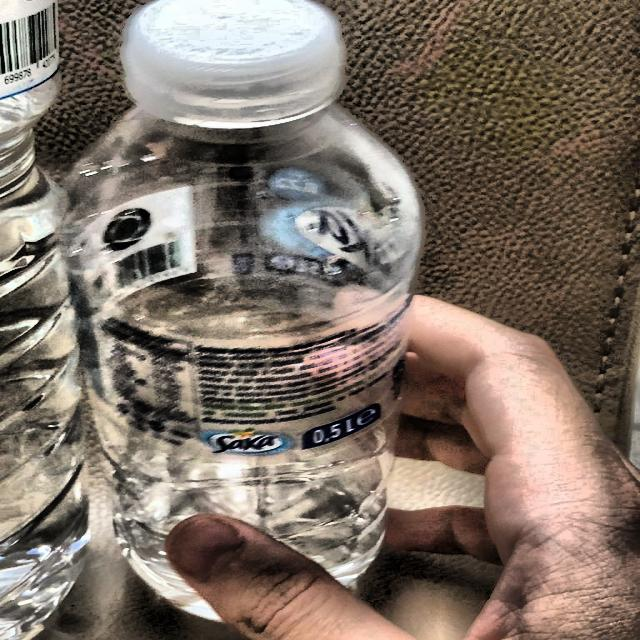plastic: (58, 0, 420, 620)
